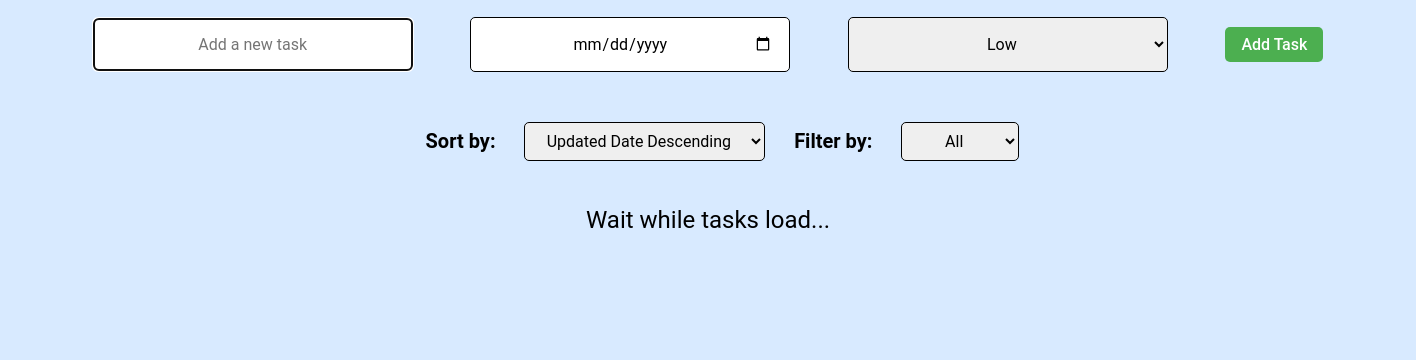
Test case: List Component › should show an error message if due date is not selected
// Simulate user input for task title
In the field with placeholder "Add a new task": (253, 44) 93,18 -> 413,71, type "New Task"
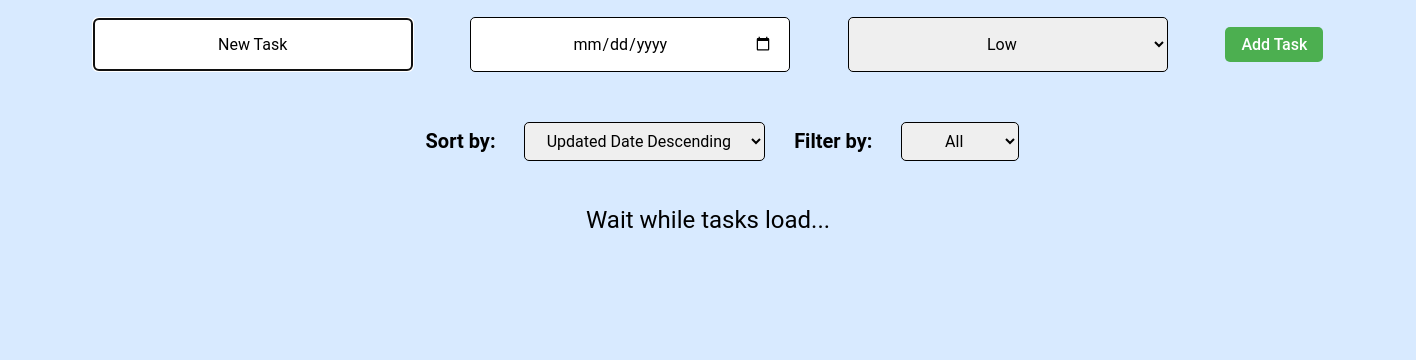
// Simulate clicking the "Add Task" button without selecting a due date
Click the button "Add Task": click(1274, 44) 1225,27 -> 1323,62
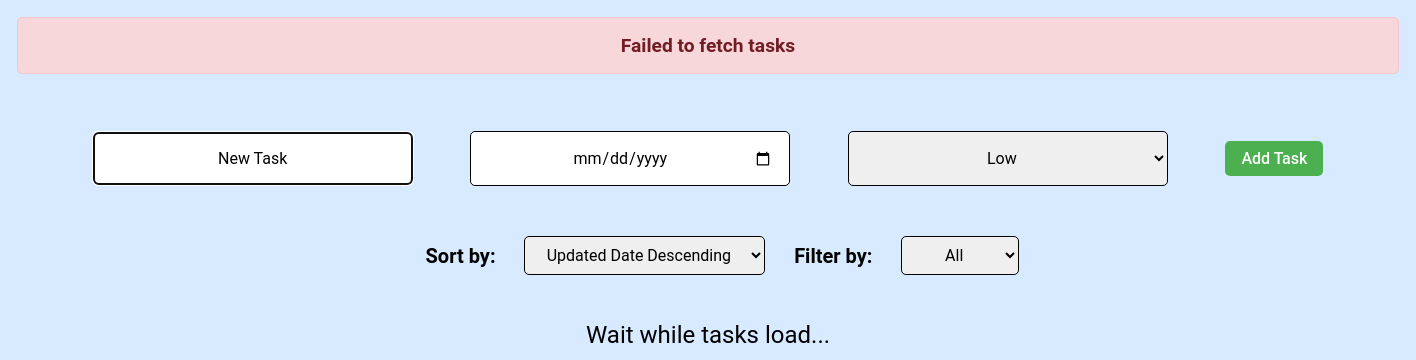
Expected: the text "Please enter a task and due date" is shown, 17,17 -> 1399,74
